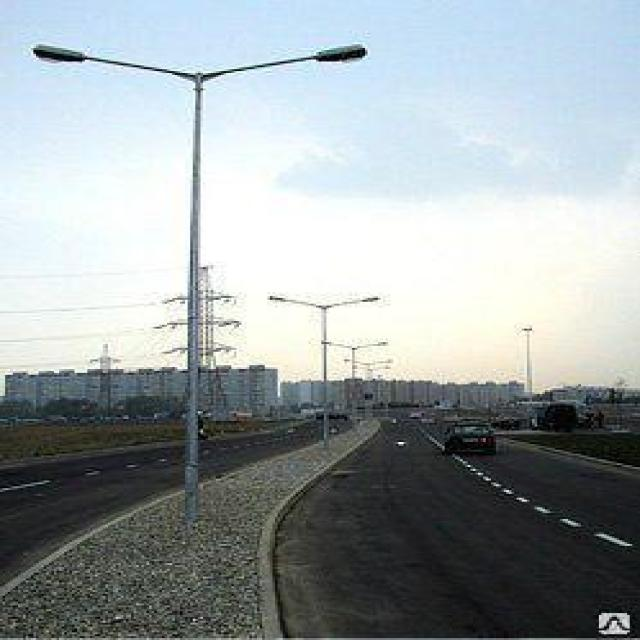pole: (150, 140, 233, 522)
